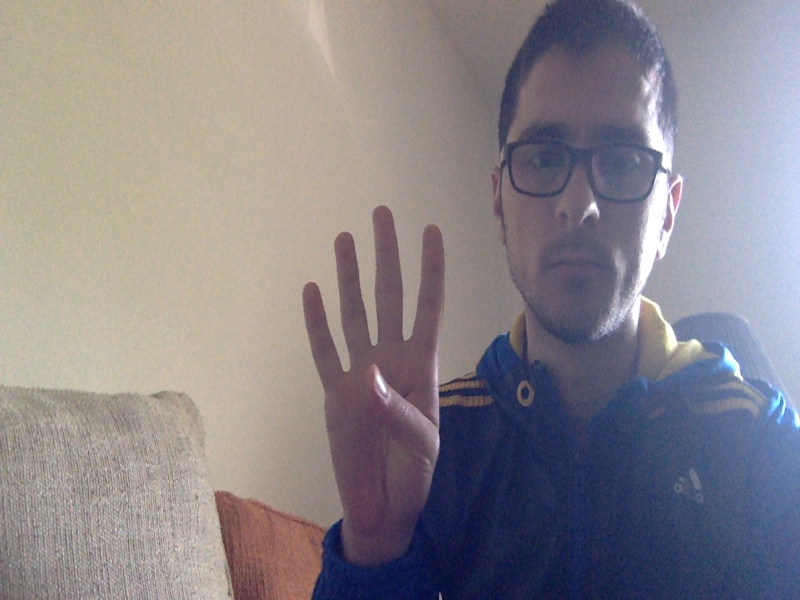4-hand: (300, 203, 445, 533)
